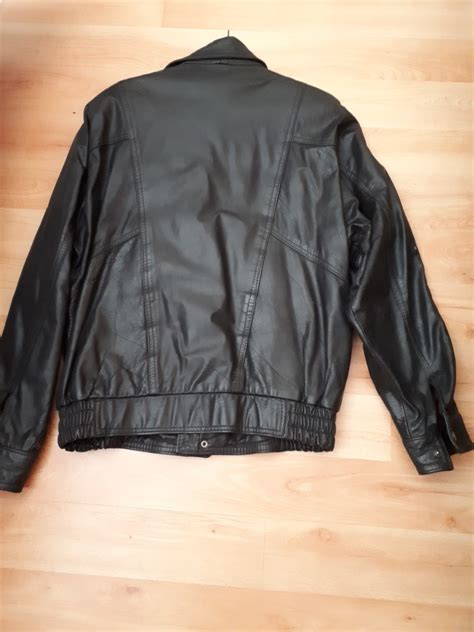cuero: (4, 33, 474, 494)
